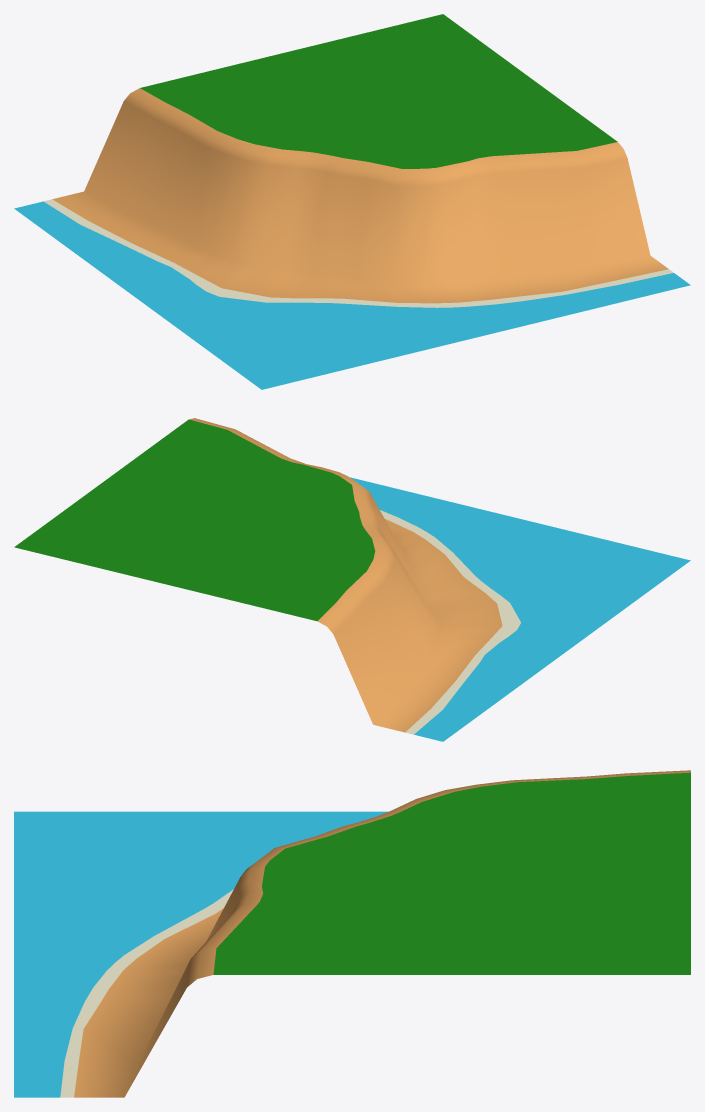
File: Beach-Turn-1.fbx
3 renders of one model, top to bottom at view 1: azimuth 30°, elevation 25°; view 2: azimuth 150°, elevation 25°; view 3: azimuth 270°, elevation 25°, orthographic. The views are drawn at different scales.
Parts seen in each view (by area): view 1: Beach-Turn-1_Sand, Beach-Turn-1_Terrain, Beach-Turn-1_Water, Beach-Turn-1_Seashore; view 2: Beach-Turn-1_Terrain, Beach-Turn-1_Water, Beach-Turn-1_Sand, Beach-Turn-1_Seashore; view 3: Beach-Turn-1_Terrain, Beach-Turn-1_Water, Beach-Turn-1_Sand, Beach-Turn-1_Seashore.
Part boxes in pixels (<box>): Beach-Turn-1_Sand: <box>52,88,668,303</box>; Beach-Turn-1_Terrain: <box>140,14,617,168</box>; Beach-Turn-1_Water: <box>14,201,690,389</box>; Beach-Turn-1_Seashore: <box>44,199,673,307</box>; Beach-Turn-1_Terrain: <box>14,419,375,621</box>; Beach-Turn-1_Water: <box>350,477,690,741</box>; Beach-Turn-1_Sand: <box>189,418,502,732</box>; Beach-Turn-1_Seashore: <box>380,510,520,734</box>; Beach-Turn-1_Terrain: <box>213,772,690,974</box>; Beach-Turn-1_Water: <box>14,811,387,1097</box>; Beach-Turn-1_Sand: <box>74,770,690,1097</box>; Beach-Turn-1_Seashore: <box>60,889,233,1097</box>.
Bounding box in the file's own units: 20 × 4 × 20.
